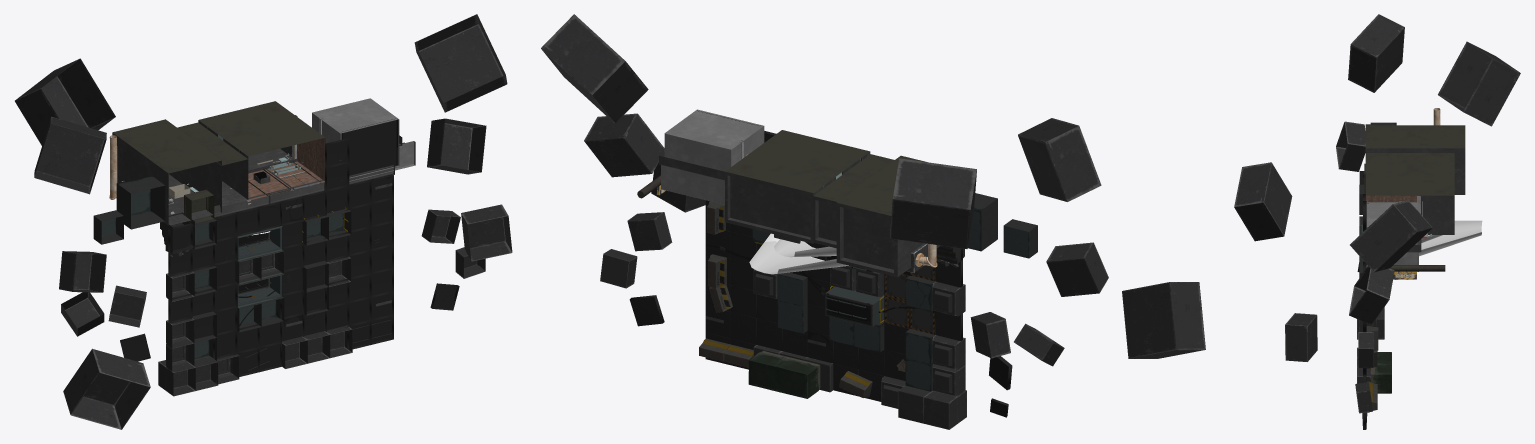
The picture shows the model from 3 angles, left to right: view 1: azimuth 30°, elevation 25°; view 2: azimuth 150°, elevation 25°; view 3: azimuth 270°, elevation 25°; orthographic projection. The views are drawn at different scales.
Visible parts, largest first — view 1: S_Outworld_prop_longmen_0191, S_Outworld_prop_longmen_0171, S_Outworld_prop_longmen_0176, S_Outworld_prop_longmen0, S_Outworld_prop_longmen_0186, S_Outworld_prop_longmen_0203, S_Outworld_prop_longmen_0181, S_Outworld_prop_longmen_086, S_Outworld_prop_014, S_Outworld_prop_015, S_Ground_tiles_longmen_041, S_Ground_tiles_longmen_0164 (+63 smaller); view 2: S_Outworld_prop_longmen_0191, S_Outworld_prop_longmen_0171, S_Outworld_prop_longmen_0176, S_Outworld_prop_longmen_0181, S_Outworld_prop_longmen0, S_Outworld_prop_longmen_0210, S_Outworld_prop_longmen_0186, S_Outworld_prop_015, S_Outworld_light_mesh2, S_Outworld_prop_longmen_086, S_Ground_tiles_longmen_0211, S_Outworld_grid_fix6 (+20 smaller); view 3: S_Outworld_prop_longmen_0191, S_Outworld_prop_longmen_0171, S_Outworld_prop_longmen_0176, S_Outworld_prop_longmen0, S_Outworld_light_mesh2, S_Outworld_prop_longmen_0186, S_Outworld_prop_longmen_0210, S_Outworld_prop_longmen_0181.
Part boxes in pixels (x1=…): S_Outworld_prop_longmen_0191: x1=15, y1=14, x2=512, y2=429; S_Outworld_prop_longmen_0171: x1=198, y1=101, x2=325, y2=200; S_Outworld_prop_longmen_0176: x1=112, y1=119, x2=221, y2=225; S_Outworld_prop_longmen0: x1=109, y1=115, x2=415, y2=223; S_Outworld_prop_longmen_0186: x1=175, y1=122, x2=248, y2=206; S_Outworld_prop_longmen_0203: x1=341, y1=118, x2=397, y2=177; S_Outworld_prop_longmen_0181: x1=312, y1=98, x2=399, y2=178; S_Outworld_prop_longmen_086: x1=116, y1=176, x2=165, y2=229; S_Outworld_prop_014: x1=237, y1=226, x2=282, y2=260; S_Outworld_prop_015: x1=237, y1=273, x2=282, y2=307; S_Ground_tiles_longmen_041: x1=301, y1=331, x2=330, y2=363; S_Ground_tiles_longmen_0164: x1=165, y1=362, x2=195, y2=396; S_Outworld_prop_longmen_0191: x1=541, y1=14, x2=1205, y2=417; S_Outworld_prop_longmen_0171: x1=725, y1=130, x2=870, y2=243; S_Outworld_prop_longmen_0176: x1=836, y1=155, x2=940, y2=277; S_Outworld_prop_longmen_0181: x1=664, y1=109, x2=764, y2=171; S_Outworld_prop_longmen0: x1=637, y1=140, x2=937, y2=272; S_Outworld_prop_longmen_0210: x1=748, y1=351, x2=820, y2=398; S_Outworld_prop_longmen_0186: x1=813, y1=154, x2=894, y2=248; S_Outworld_prop_015: x1=825, y1=286, x2=884, y2=326; S_Outworld_light_mesh2: x1=749, y1=233, x2=848, y2=274; S_Outworld_prop_longmen_086: x1=968, y1=193, x2=997, y2=251; S_Ground_tiles_longmen_0211: x1=924, y1=390, x2=957, y2=429; S_Outworld_grid_fix6: x1=932, y1=281, x2=965, y2=316; S_Outworld_prop_longmen_0191: x1=1234, y1=14, x2=1520, y2=429; S_Outworld_prop_longmen_0171: x1=1366, y1=162, x2=1454, y2=234; S_Outworld_prop_longmen_0176: x1=1365, y1=125, x2=1465, y2=194; S_Outworld_prop_longmen0: x1=1364, y1=108, x2=1445, y2=279; S_Outworld_light_mesh2: x1=1419, y1=220, x2=1482, y2=256; S_Outworld_prop_longmen_0186: x1=1365, y1=153, x2=1454, y2=200; S_Outworld_prop_longmen_0210: x1=1371, y1=352, x2=1391, y2=393; S_Outworld_prop_longmen_0181: x1=1366, y1=202, x2=1417, y2=264.
Bounding box in the file's own units: 0.2232 × 0.1247 × 0.1251.
Materials: 4 (4 with a texture image).
